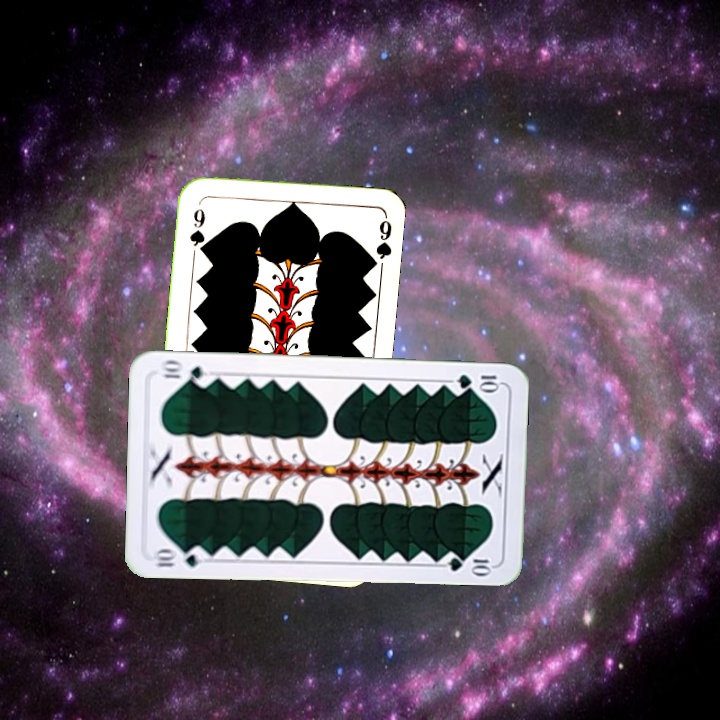G10: (149, 543, 209, 570), (453, 370, 503, 391)
G9: (186, 204, 208, 257)
